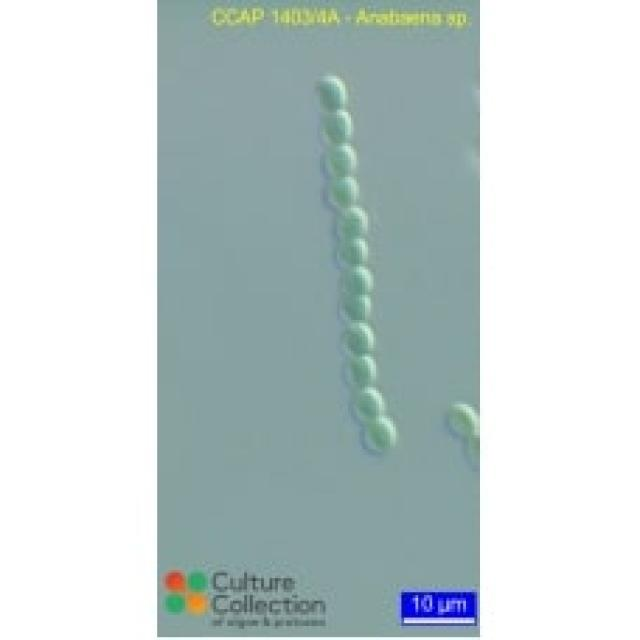Blue Green Algae: (362, 421, 396, 460), (444, 398, 477, 438), (337, 323, 376, 356), (348, 387, 385, 421), (314, 73, 348, 109), (337, 357, 376, 388), (317, 112, 354, 143), (322, 143, 353, 180), (334, 208, 368, 241), (320, 177, 356, 208), (334, 292, 373, 320), (331, 236, 365, 266), (337, 266, 370, 294)
